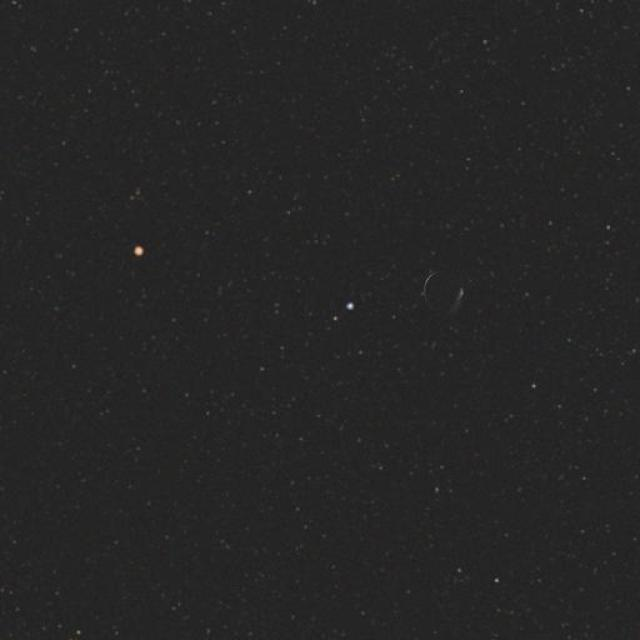debris: (405, 260, 485, 322)
